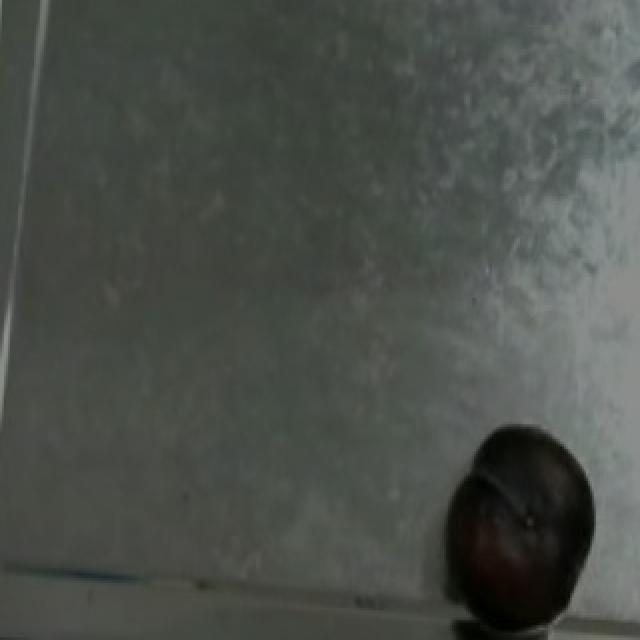Fruit: (432, 466, 592, 640)
